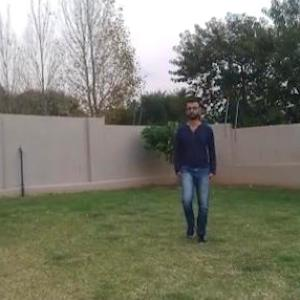follow: (176, 96, 213, 242)
